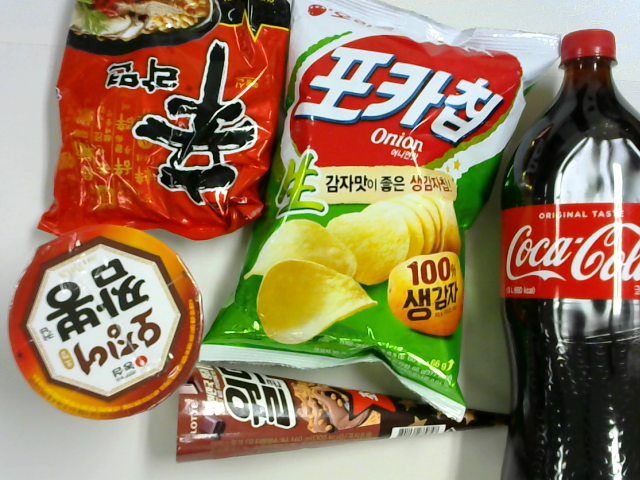Coca_Cola_1.5L: (498, 28, 640, 480)
Ojjam: (6, 229, 200, 417)
Pocachip_Onion: (212, 1, 553, 406)
Sinramen: (51, 1, 289, 231)
World_Cone_Choco: (175, 366, 512, 460)
